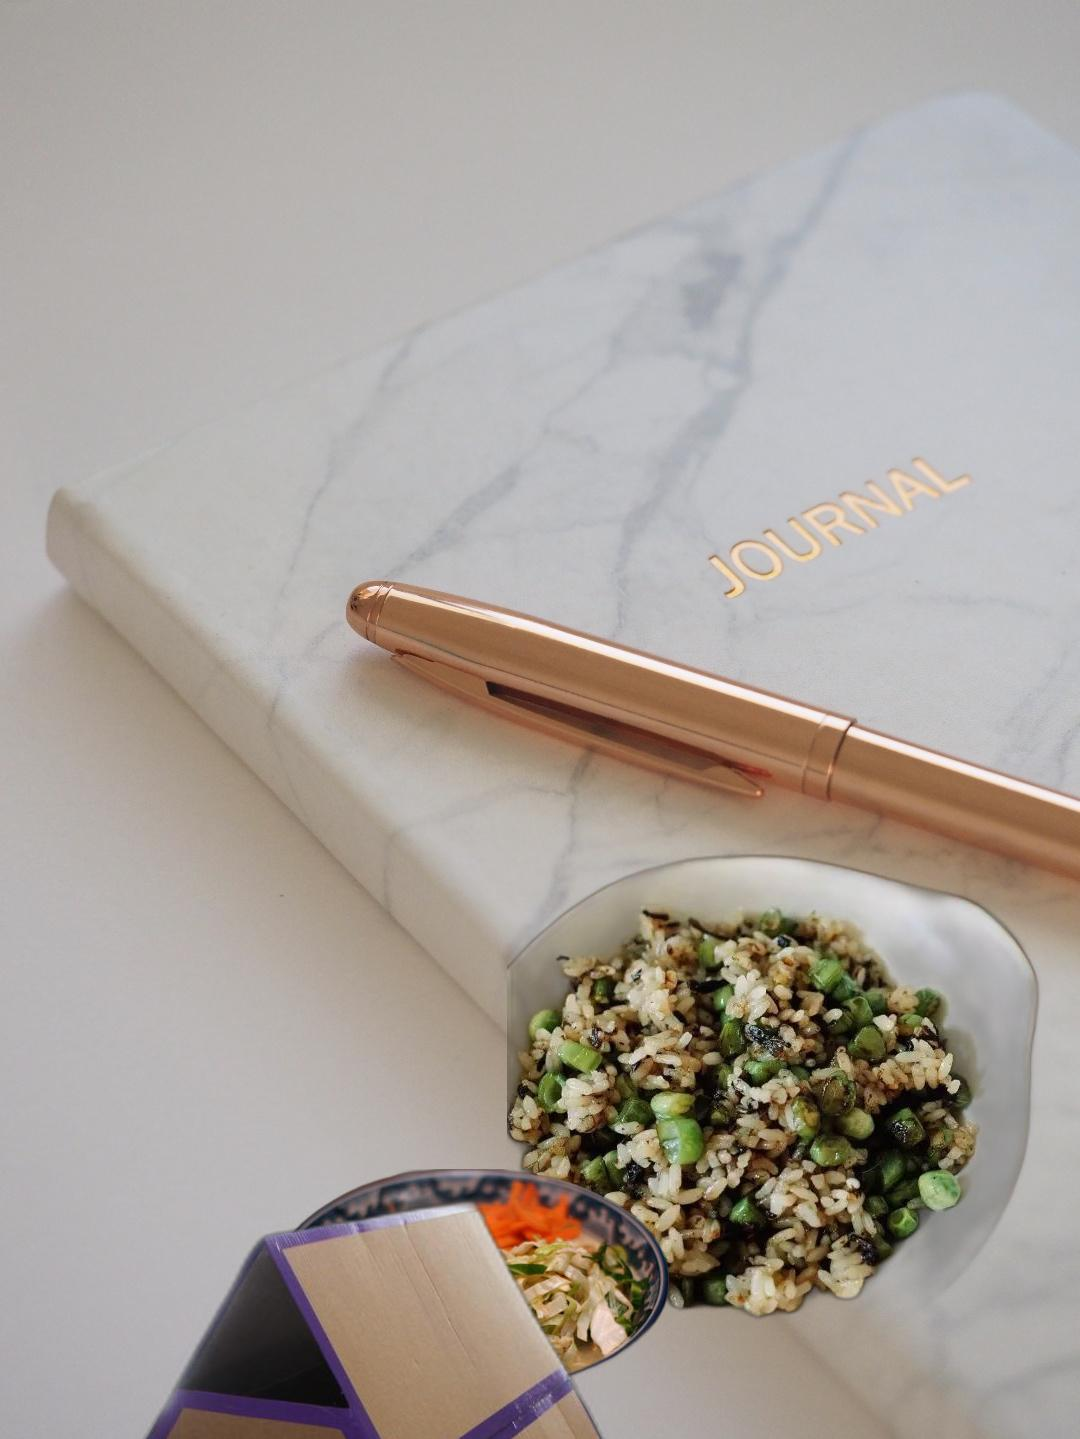biological: (507, 742, 1063, 1369), (282, 1169, 672, 1395)
metal-cans: (781, 1328, 1080, 1439)
trashbox-cardboard: (29, 1193, 658, 1439)
